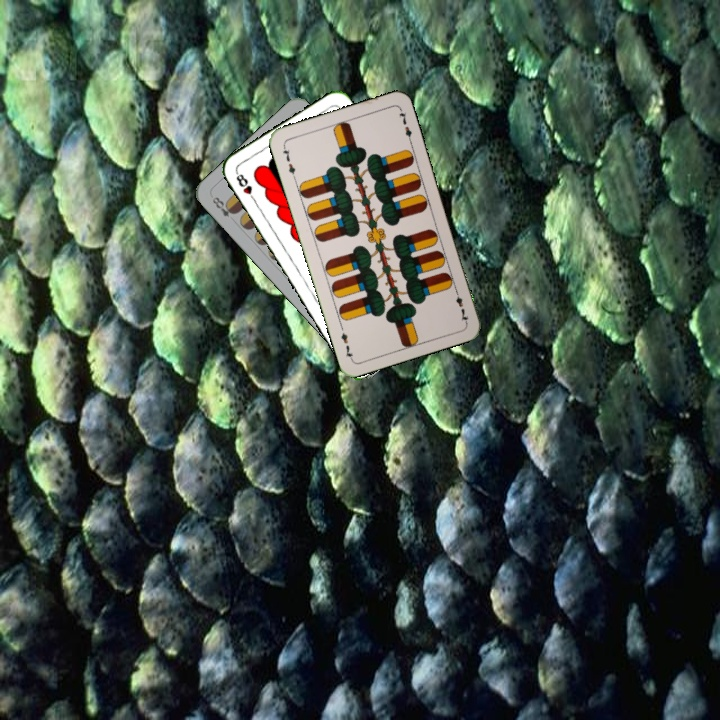E7: (278, 142, 298, 182), (451, 285, 471, 325)
E8: (208, 193, 239, 220)
H8: (232, 168, 259, 204)
